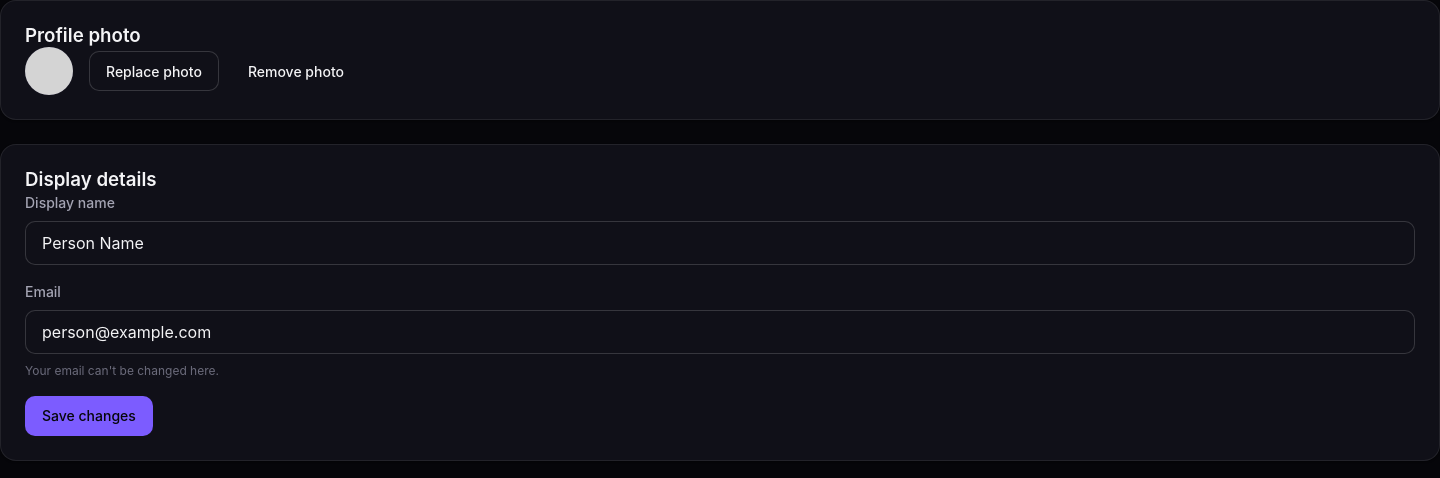
Test: ProfileSection › removes an existing avatar and falls back to initials immediately
Click the button "Remove photo". click: (296, 72)
box: [231,52,361,92]
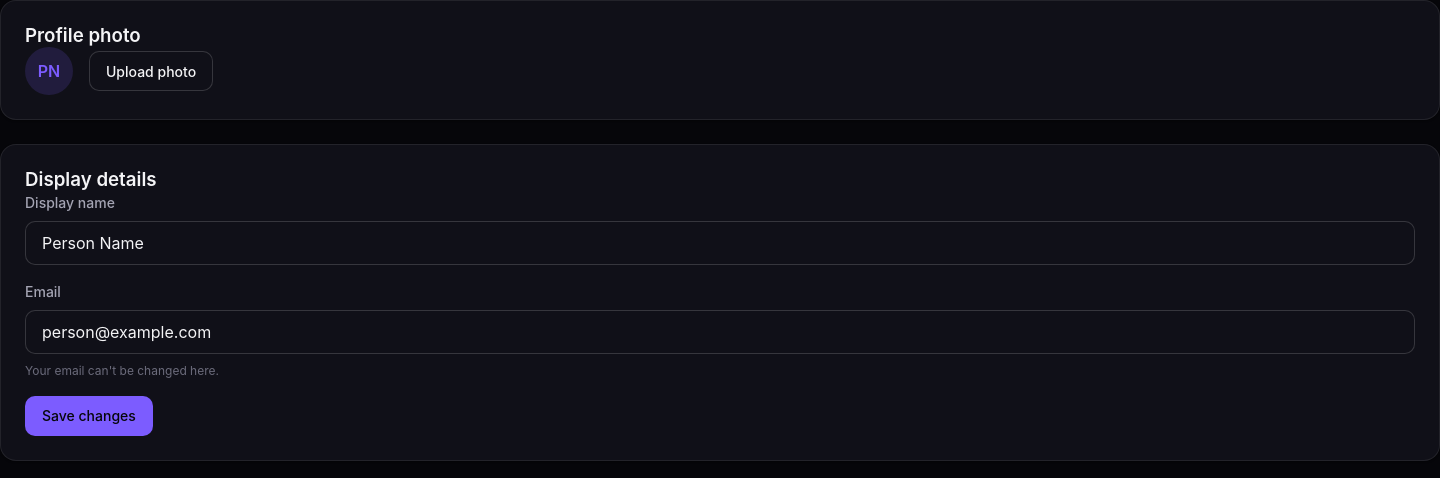
Expected: the button "Remove photo" is gone
Expected: the picture is gone
Expected: the picture named "Person Name" reads "PN", [38,62,60,82]
